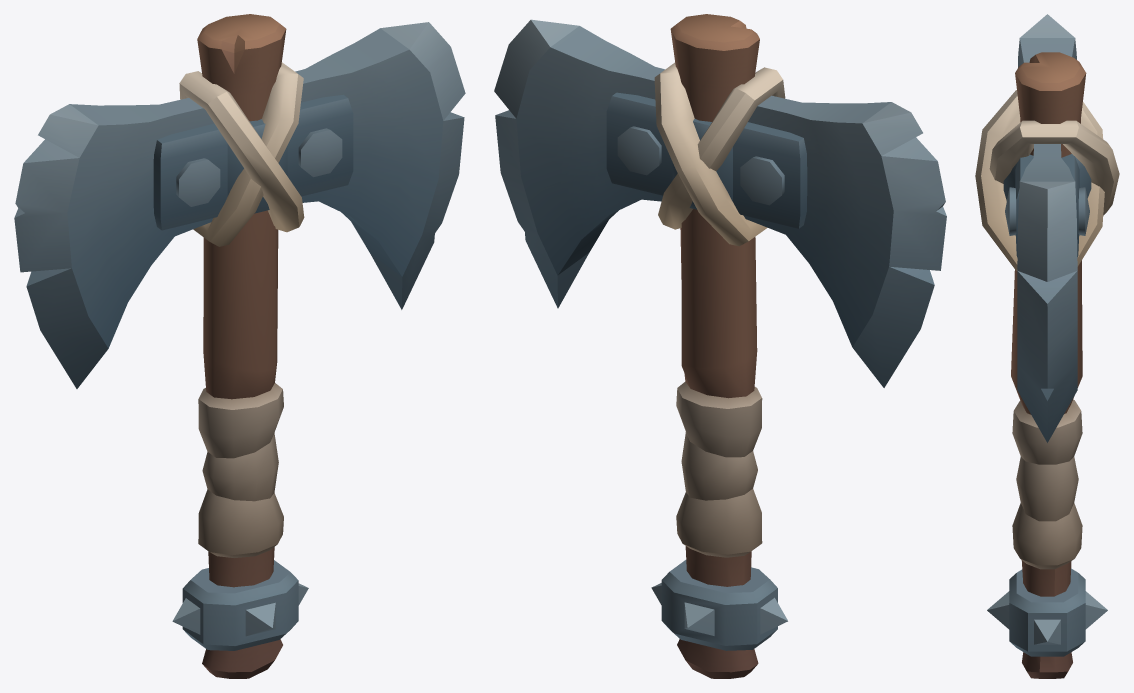
The model's file is axe_A.fbx.
3 renders of one model, left to right at view 1: azimuth 30°, elevation 25°; view 2: azimuth 150°, elevation 25°; view 3: azimuth 270°, elevation 25°, orthographic. The views are drawn at different scales.
Visible parts, largest first — view 1: axe_A; view 2: axe_A; view 3: axe_A.
Part boxes in pixels (x1,y1,x2,y2): axe_A: (14, 14, 465, 678); axe_A: (494, 14, 946, 678); axe_A: (975, 14, 1119, 678).
Bounding box in the file's own units: 0.8558 × 1.16 × 0.2504.
